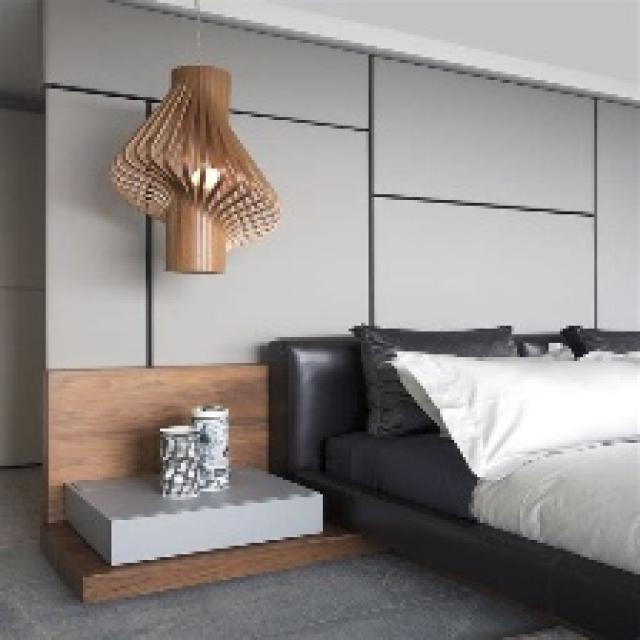Bed: (266, 326, 637, 637)
